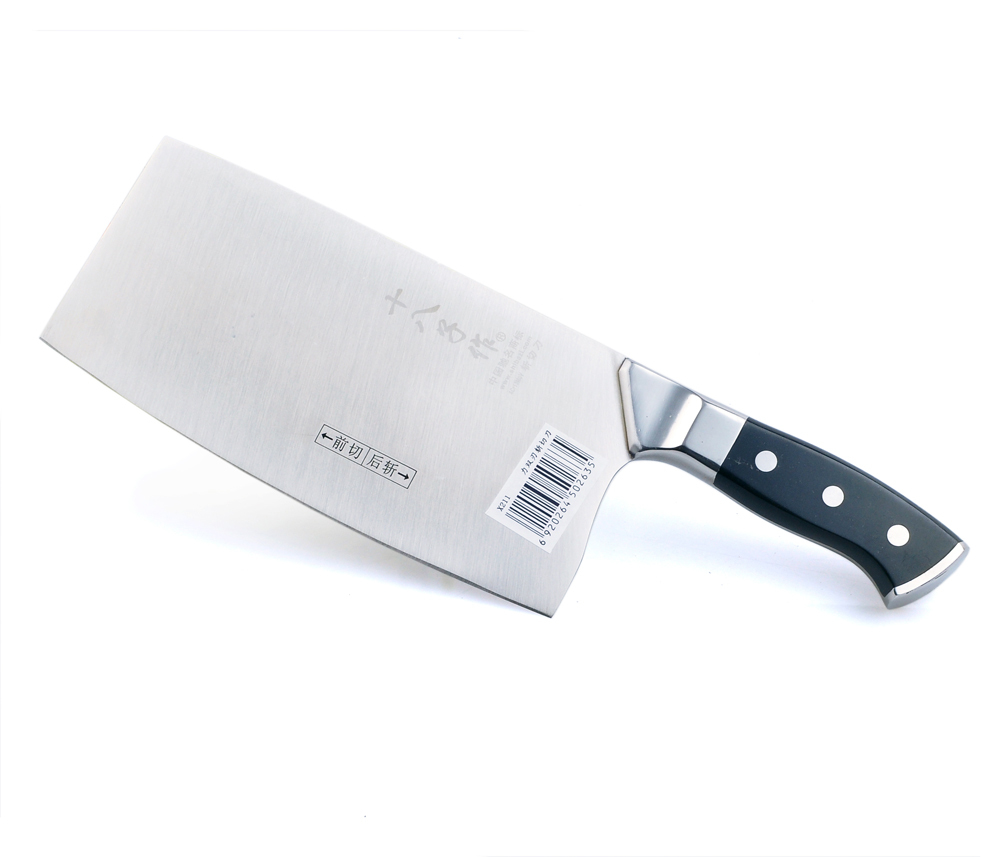knief: (86, 119, 969, 659)
